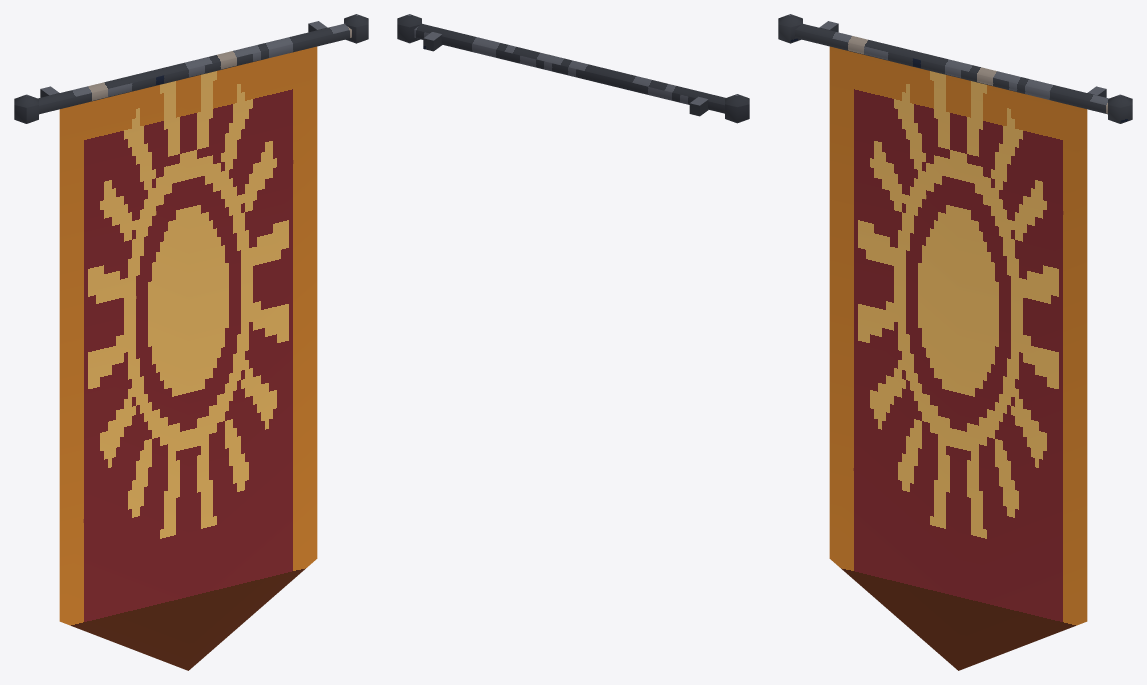
Rendered from dprop.banner__point.glb.
3 renders of one model, left to right at view 1: azimuth 30°, elevation 25°; view 2: azimuth 150°, elevation 25°; view 3: azimuth 330°, elevation 25°, orthographic.
Visible parts, largest first — view 1: kit_card_cloth, kit_rod; view 2: kit_rod; view 3: kit_card_cloth, kit_rod.
Part boxes in pixels (<box>): kit_card_cloth: <box>59,46,317,670</box>; kit_rod: <box>14,14,368,123</box>; kit_rod: <box>397,14,749,123</box>; kit_card_cloth: <box>829,46,1087,670</box>; kit_rod: <box>778,14,1132,123</box>.
Bounding box in the file's own units: 1.38 × 2.29 × 0.1213.
Materials: 2 (2 with a texture image).
